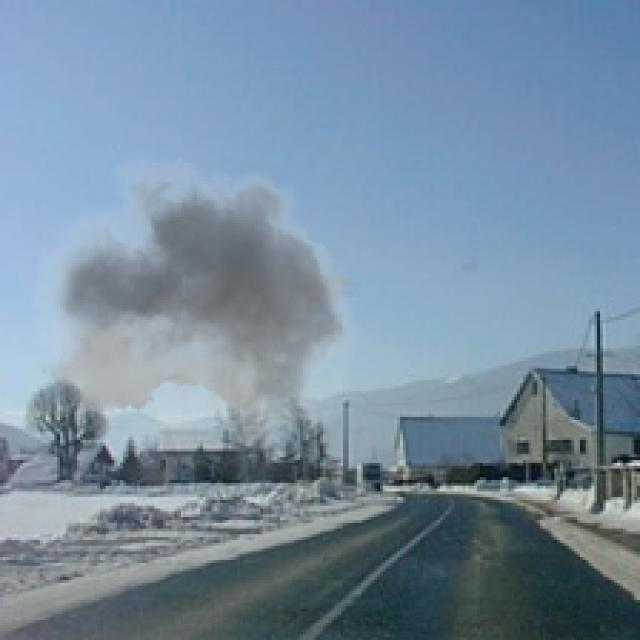Smoke: (29, 140, 372, 483)
